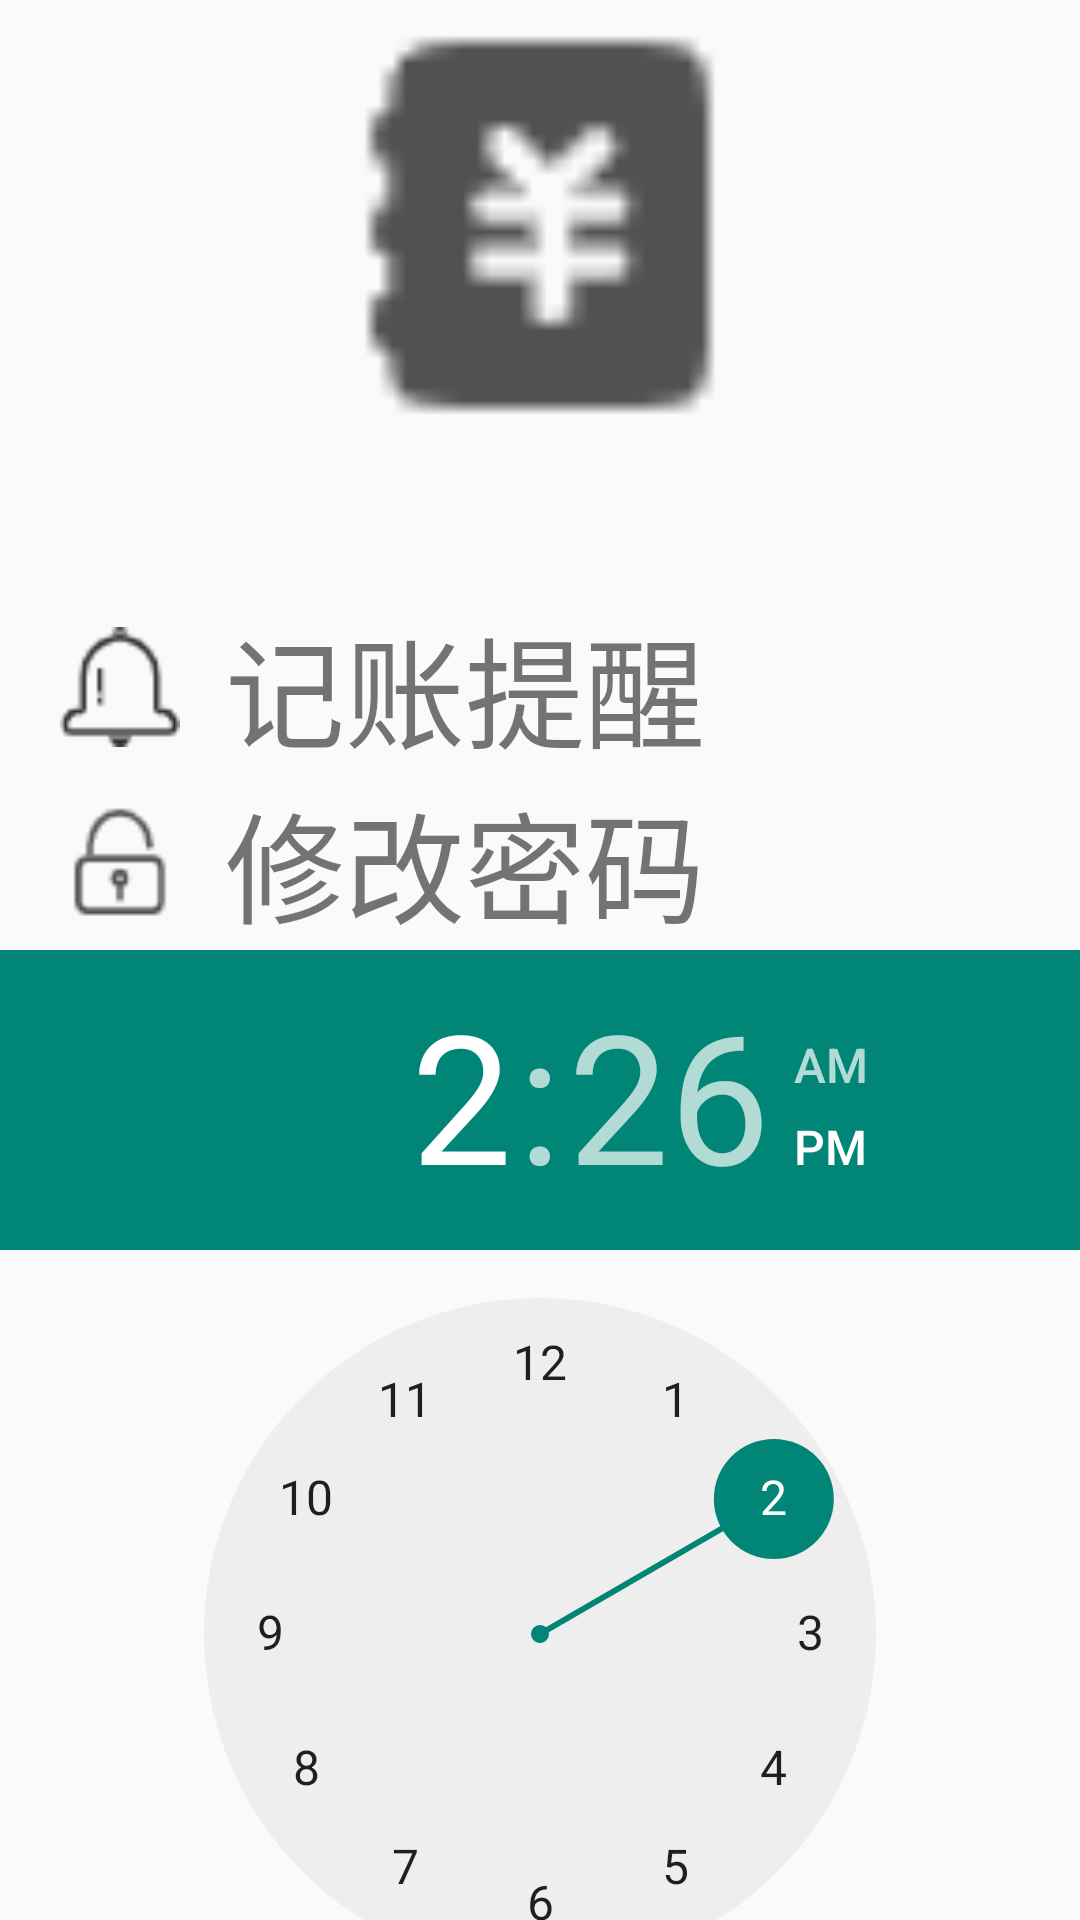

Screen size 1080 x 1920. Icon name, then its box in pixels as (x1, y1, x2, y2):
change: (74, 808, 166, 916)
tixing: (60, 627, 180, 747)
